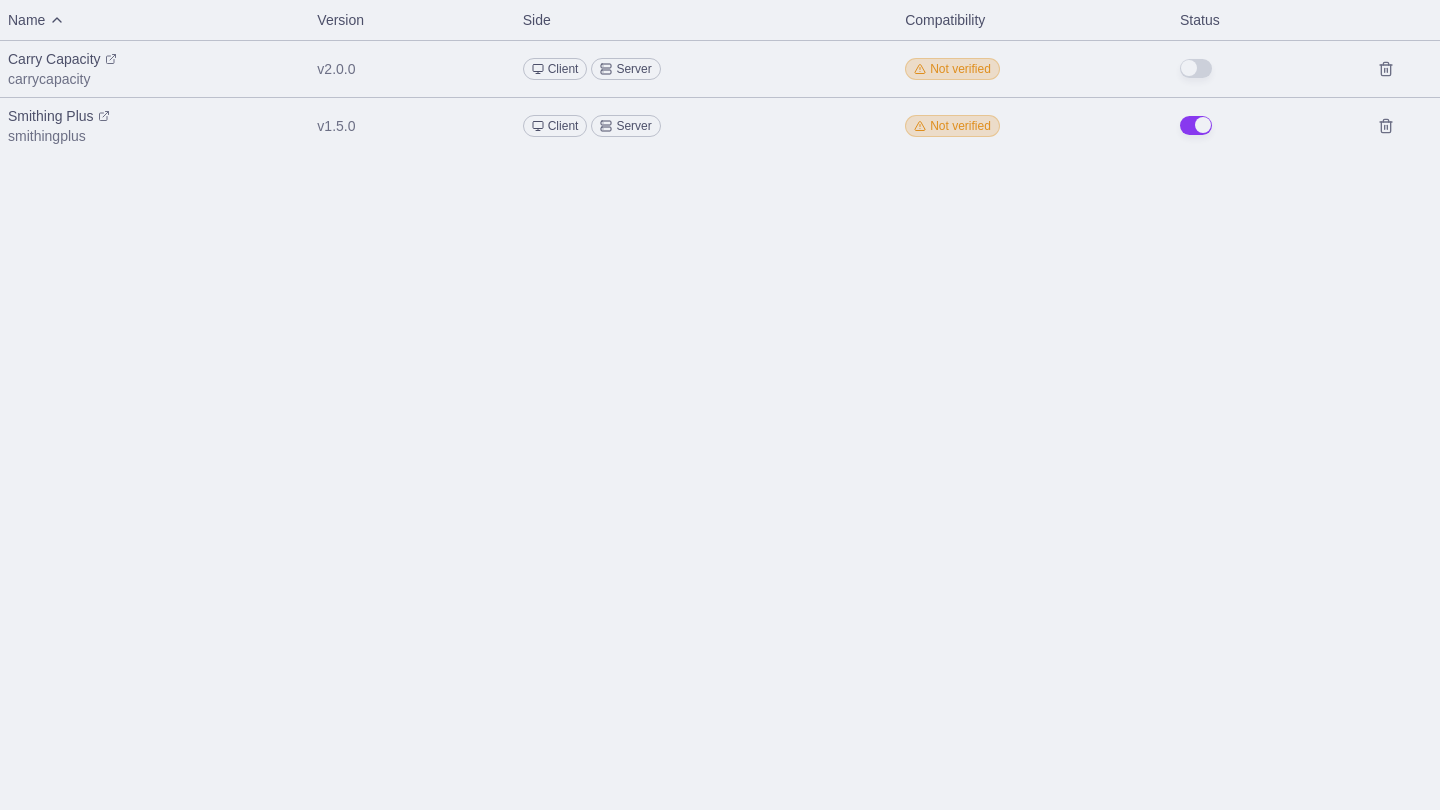
Test case: ModTable › remove mod (AC: 8) › shows confirmation dialog when remove button is clicked
Step 1. Click the button with test id "mod-remove-smithingplus" → (1386, 126), box top-left (1368, 108), bottom-right (1404, 144)
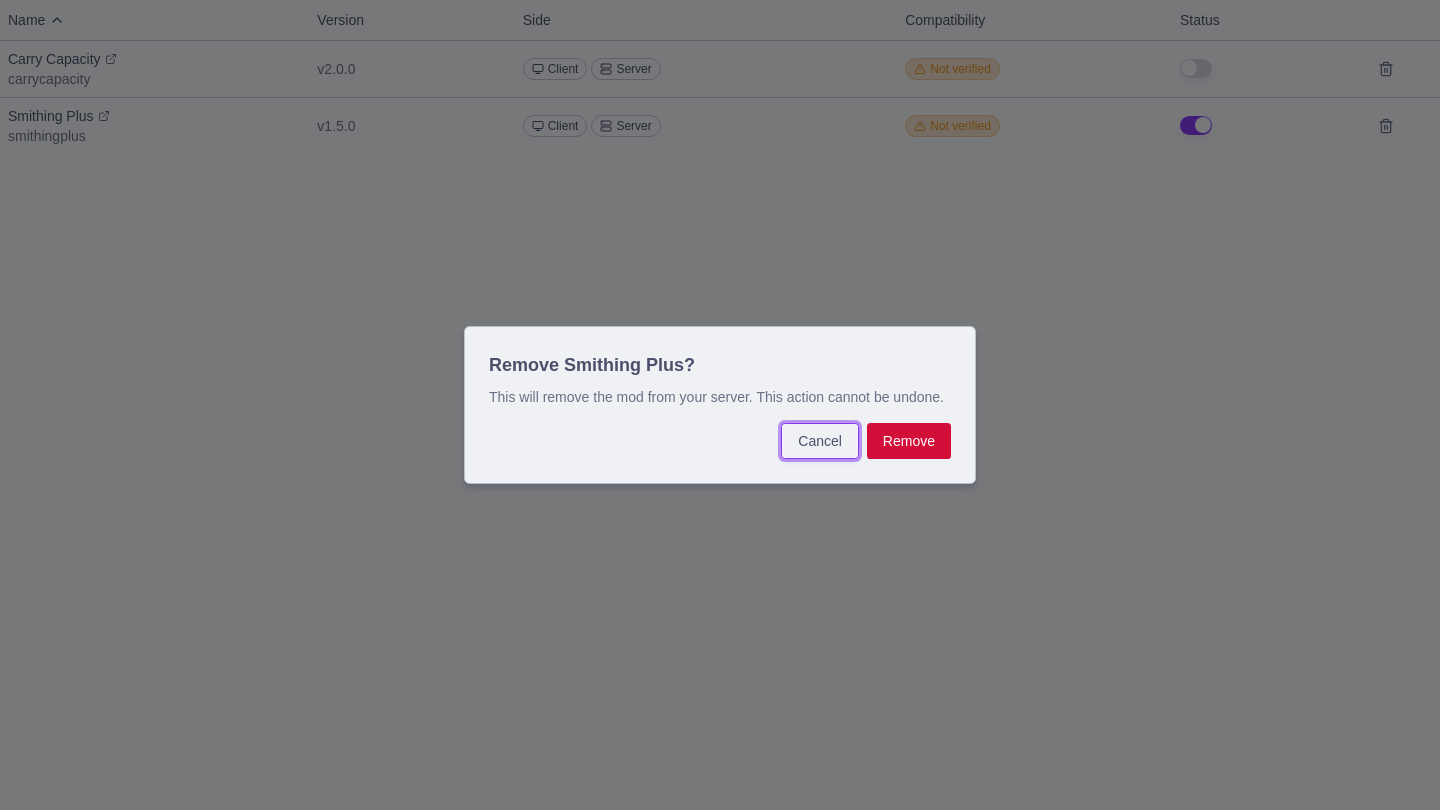
Expected: the dialog with test id "remove-dialog" is shown, top-left (464, 326), bottom-right (976, 484)
Expected: the heading "Remove Smithing Plus?" is shown, top-left (489, 355), bottom-right (695, 375)
Expected: the text "This will remove the mod from your server" is shown, top-left (489, 389), bottom-right (944, 405)
